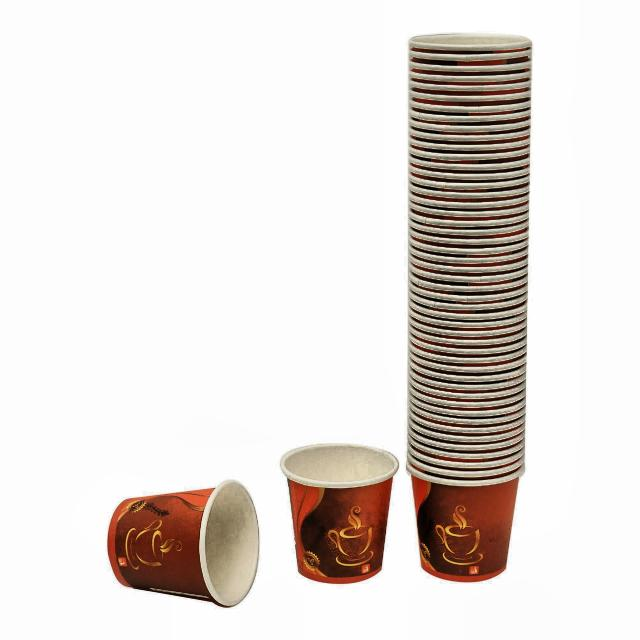Cup: (403, 288, 531, 586), (100, 476, 266, 609), (281, 442, 396, 586)
